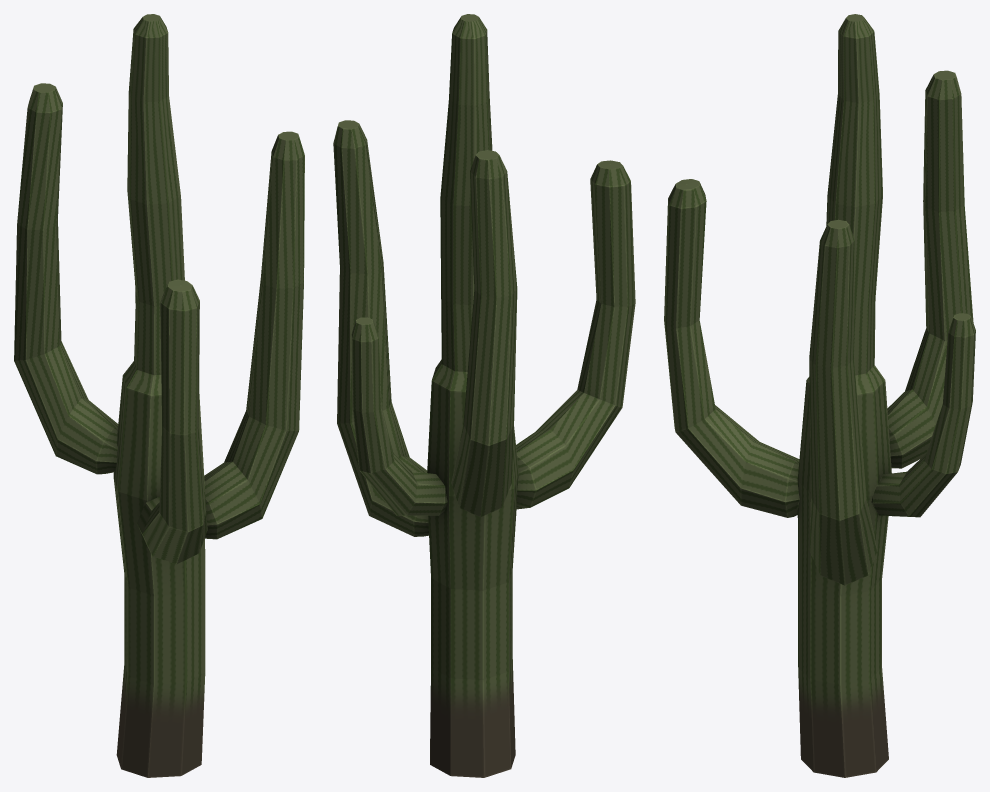
File: west_cactus2.glb
3 views of the same model, side by side, from view 1: azimuth 30°, elevation 25°; view 2: azimuth 150°, elevation 25°; view 3: azimuth 270°, elevation 25° (orthographic).
Parts seen in each view (by area): view 1: Saguaro_mesh; view 2: Saguaro_mesh; view 3: Saguaro_mesh.
Part boxes in pixels (<box>): Saguaro_mesh: <box>14,14,304,777</box>; Saguaro_mesh: <box>333,14,635,777</box>; Saguaro_mesh: <box>664,14,975,777</box>.
Size of the model in its own units: 6.67 by 20.42 by 7.8.
1 material, 1 textured.
